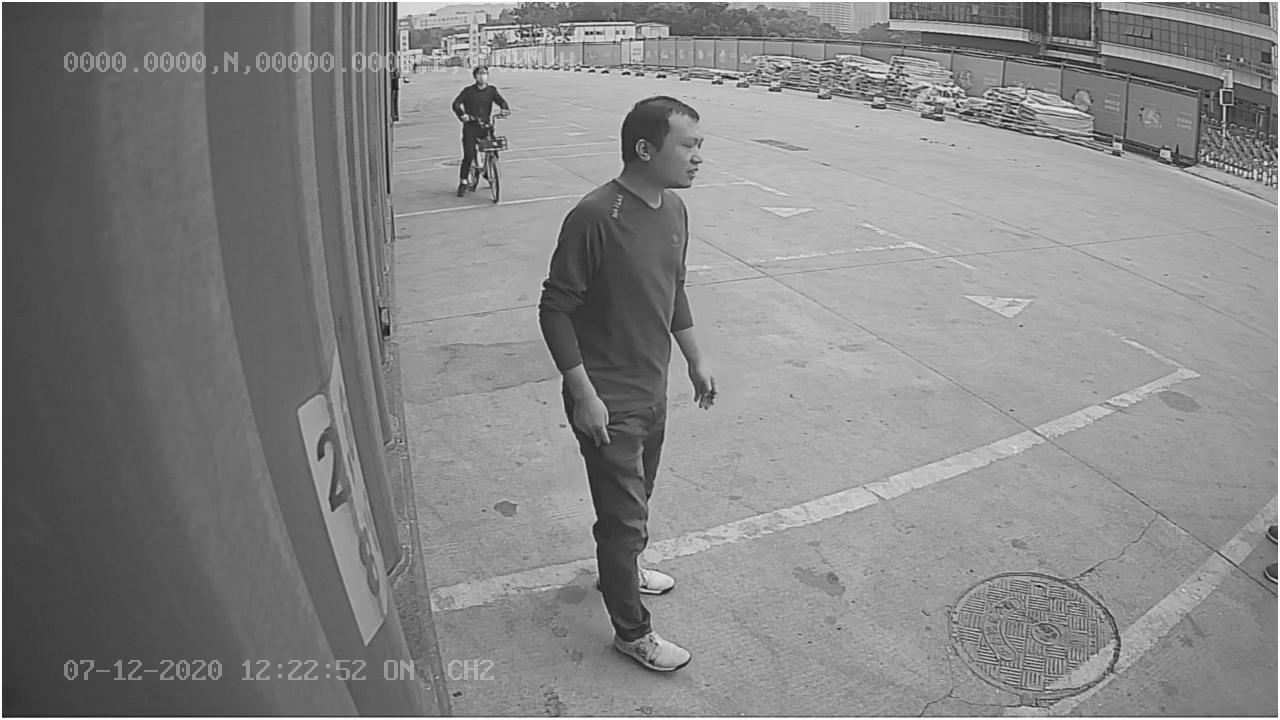person: (538, 93, 723, 678)
